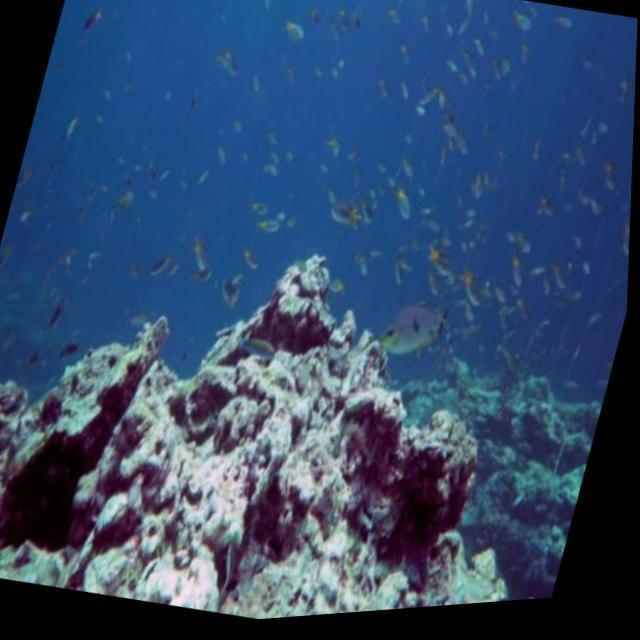Dead Coral: (0, 169, 550, 640)
